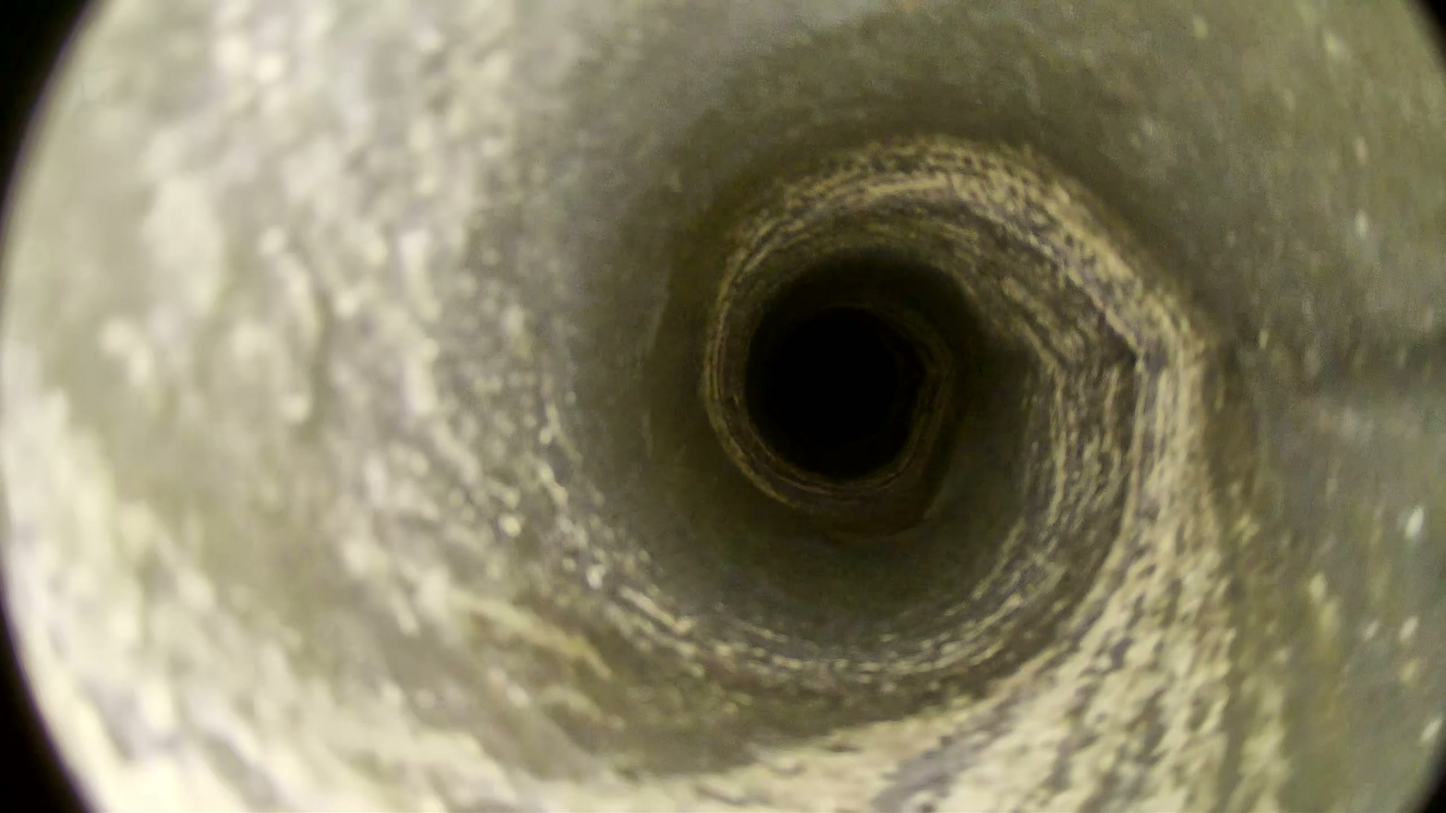hole: (771, 322, 897, 441)
